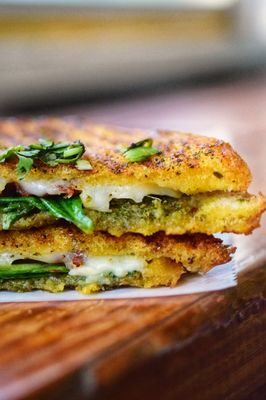sandwich: (0, 114, 261, 296)
